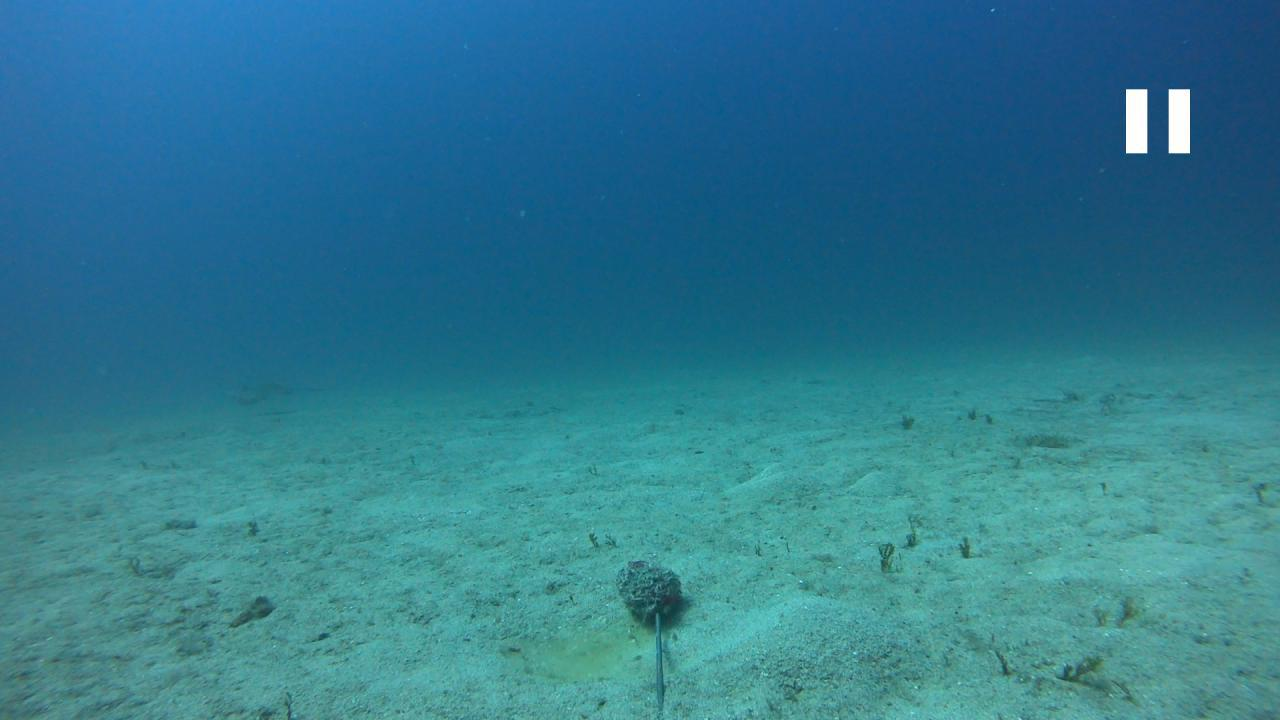dasyatis: (231, 380, 324, 402)
